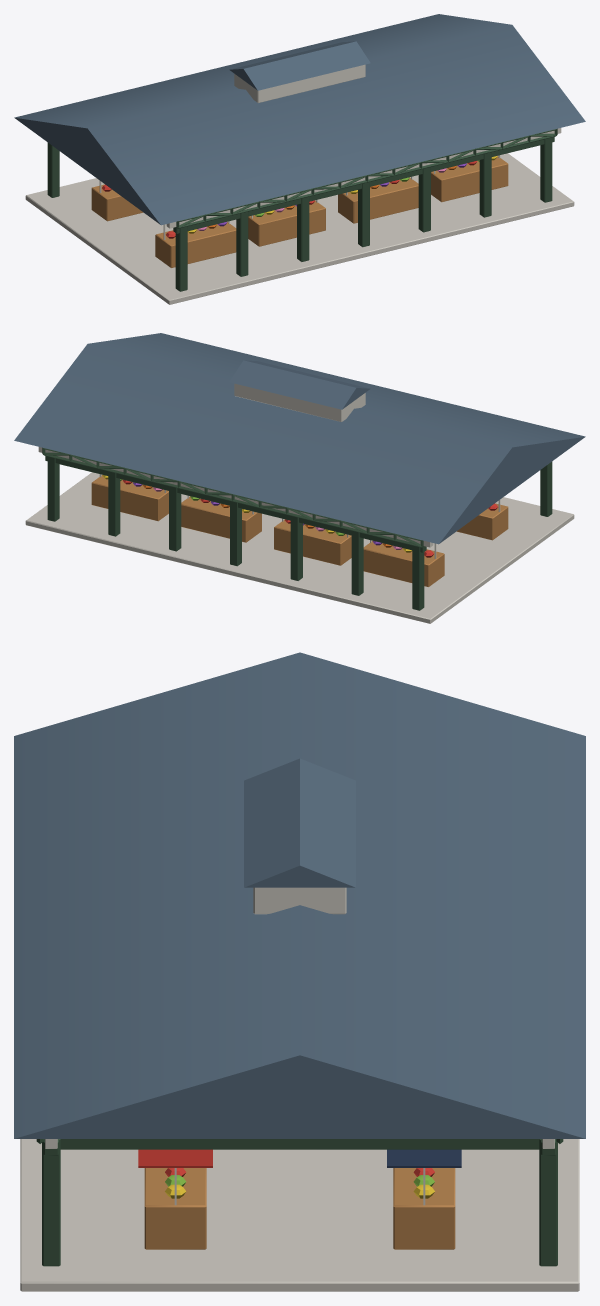
File: 127_marche_couvert.fbx
The picture shows the model from 3 angles, top to bottom: view 1: azimuth 30°, elevation 25°; view 2: azimuth 150°, elevation 25°; view 3: azimuth 270°, elevation 25°; orthographic projection. The views are drawn at different scales.
Parts seen in each view (by area): view 1: Toit, Halle, Etals; view 2: Toit, Halle, Etals; view 3: Toit, Halle, Etals.
Boxes of the visible parts, left/top/right/bottom form: Toit: left=14, top=14, right=585, bottom=225; Halle: left=25, top=128, right=574, bottom=304; Etals: left=91, top=155, right=508, bottom=267; Toit: left=14, top=333, right=585, bottom=544; Halle: left=25, top=447, right=574, bottom=623; Etals: left=91, top=474, right=508, bottom=586; Toit: left=14, top=652, right=585, bottom=1138; Halle: left=20, top=1139, right=579, bottom=1291; Etals: left=138, top=1149, right=461, bottom=1249.
Bounding box in the file's own units: 8.4 × 2.8 × 5.04.
Materials: 1 (1 with a texture image).
